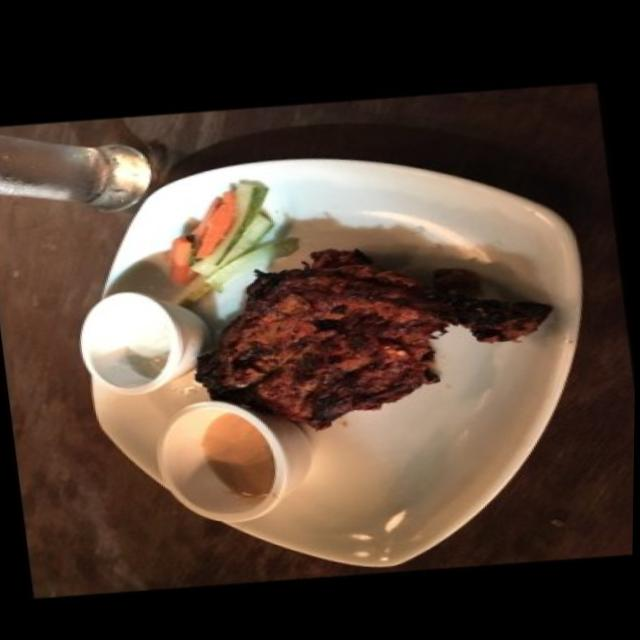CHICKEN FRY: (203, 236, 559, 445)
CURD: (78, 295, 193, 402)
RED CHUTNEY: (169, 400, 297, 518)
